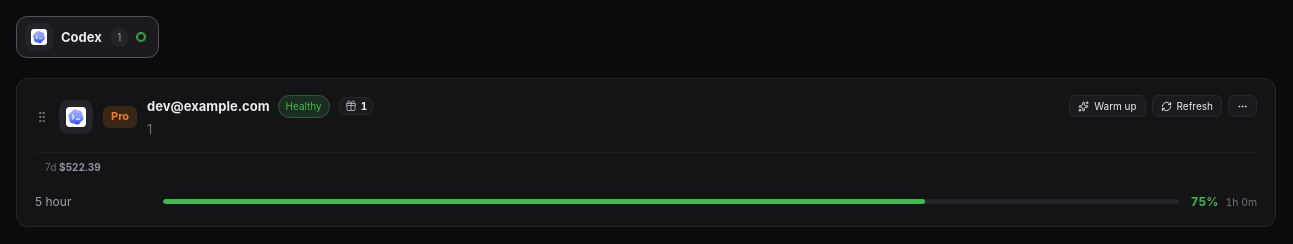
it: AccountsSurface component › asks for confirmation before spending a banked reset
Click the button named "More actions for dev@example.com" at (1242, 106), box x1=1228 y1=95 x2=1257 y2=117
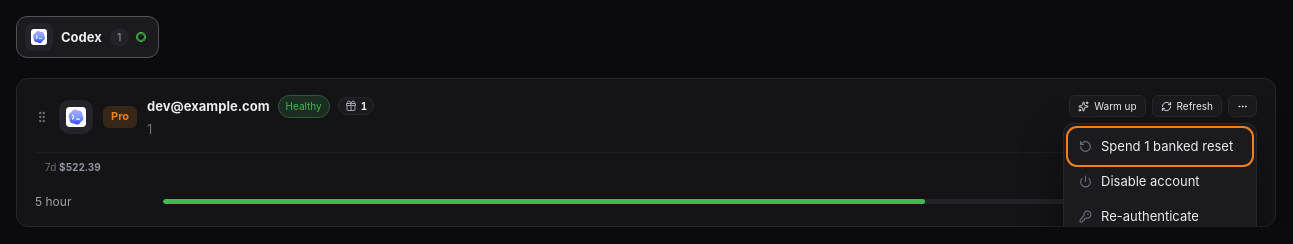
Click the menu item with aria-label "Spend 1 banked reset for dev@example.com" at (1160, 146), box x1=1070 y1=130 x2=1250 y2=163
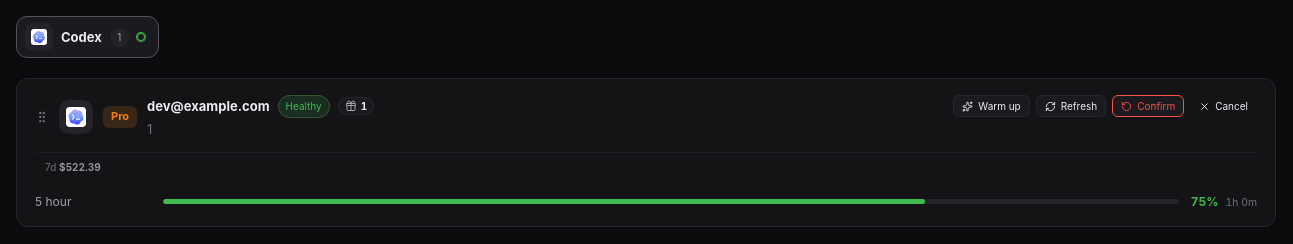
Expected: the button with aria-label "Confirm spending a banked reset for dev@example.com" is shown, x1=1112 y1=95 x2=1184 y2=117
Click the button with aria-label "Cancel spending a banked reset for dev@example.com" at (1224, 106), box x1=1190 y1=95 x2=1257 y2=117
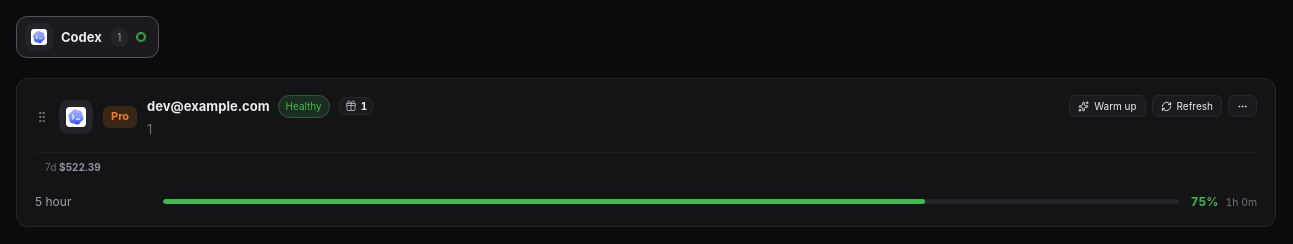
Click the button named "More actions for dev@example.com" at (1242, 106), box x1=1228 y1=95 x2=1257 y2=117
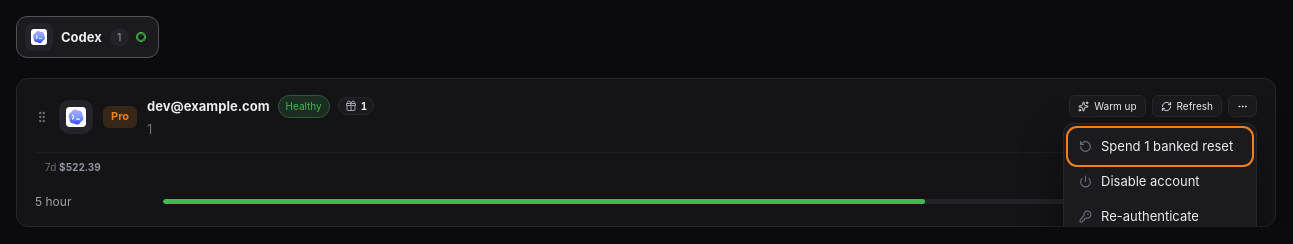
Expected: the menu item with aria-label "Spend 1 banked reset for dev@example.com" is shown, x1=1070 y1=130 x2=1250 y2=163
